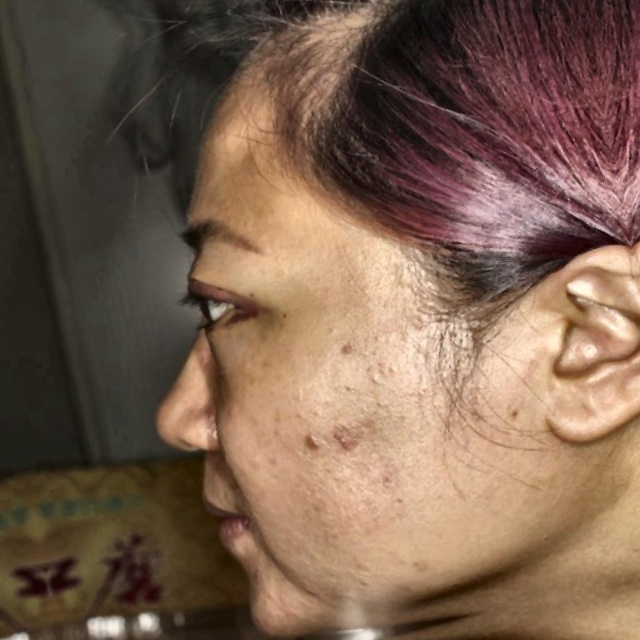comedone: (289, 413, 336, 461), (337, 418, 372, 460)
